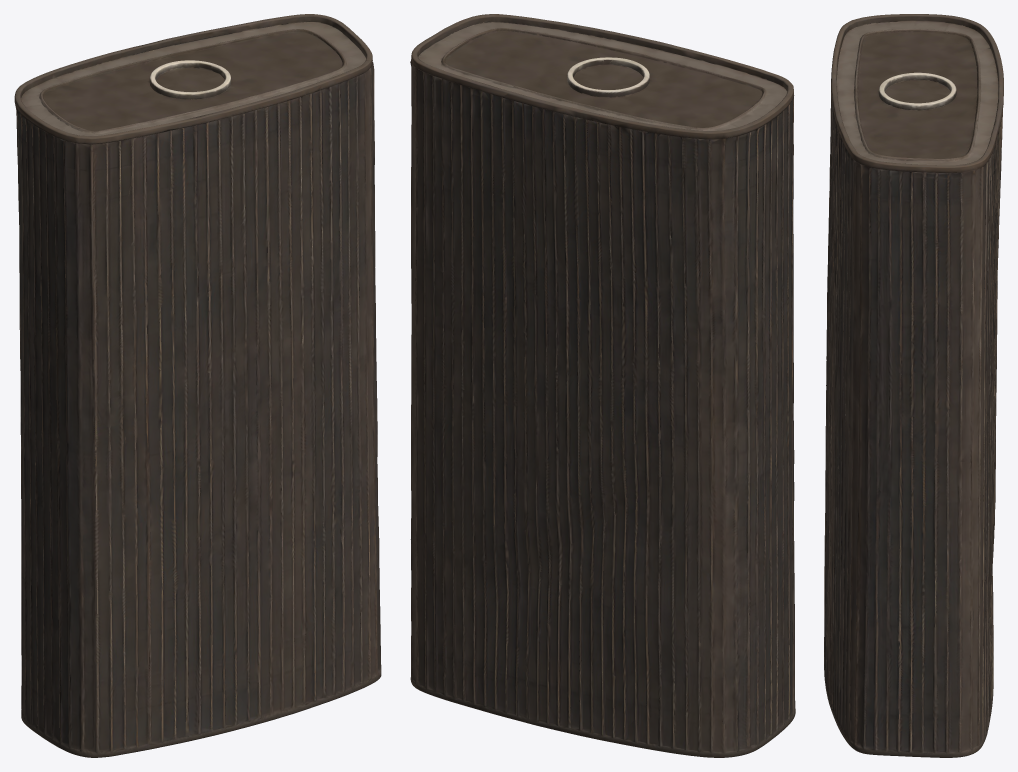
Rendered from attempt02-raw-normalized.glb.
3 views of the same model, side by side, from view 1: azimuth 30°, elevation 25°; view 2: azimuth 150°, elevation 25°; view 3: azimuth 270°, elevation 25° (orthographic). The views are drawn at different scales.
Parts seen in each view (by area): view 1: montparnasse; view 2: montparnasse; view 3: montparnasse.
Part boxes in pixels (x1=…): montparnasse: x1=14, y1=14, x2=381, y2=757; montparnasse: x1=410, y1=14, x2=795, y2=757; montparnasse: x1=824, y1=14, x2=1003, y2=757.
Bounding box in the file's own units: 177 × 314 × 86.78.
Materials: 1 (1 with a texture image).
